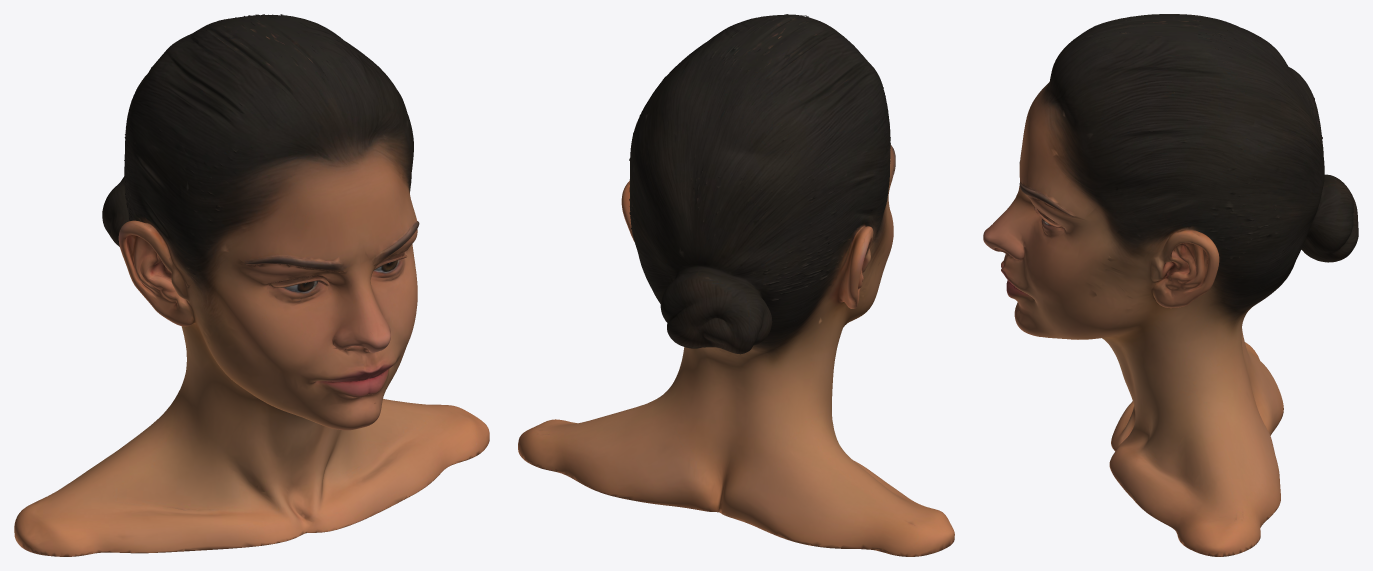
File: rosto-realista-20261112.glb
3 renders of one model, left to right at view 1: azimuth 30°, elevation 25°; view 2: azimuth 150°, elevation 25°; view 3: azimuth 270°, elevation 25°, orthographic. The views are drawn at different scales.
Visible parts, largest first — view 1: material; view 2: material; view 3: material.
Part boxes in pixels (bbox=[...]): material: bbox=[14, 14, 489, 556]; material: bbox=[518, 14, 954, 556]; material: bbox=[983, 14, 1358, 556].
Size of the model in its own units: 0.8441 by 0.8347 by 0.6619.
Materials: 1 (1 with a texture image).
